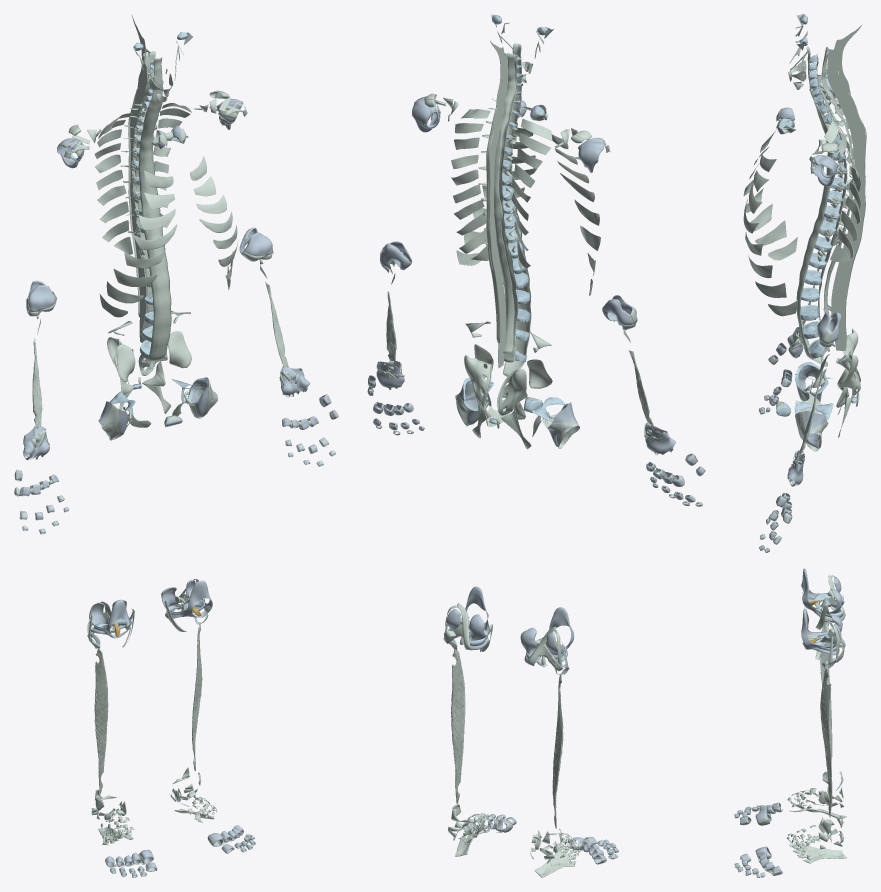
File: joints.glb
3 renders of one model, left to right at view 1: azimuth 30°, elevation 25°; view 2: azimuth 150°, elevation 25°; view 3: azimuth 270°, elevation 25°, orthographic. The views are drawn at different scales.
Visible parts, largest first — view 1: Anterior longitudinal ligament, External intercostal membrane.r, Internal intercostal membrane.r, External intercostal membrane.l, Interosseous membrane of leg.r, Interspinous ligaments, Articular capsule of knee joint.l, Internal intercostal membrane.l, Articular capsule of knee joint.r, Articular capsule of elbow joint.l, Interosseous membrane of leg.l, Articular capsule of elbow joint.r (+2 smaller); view 2: Internal intercostal membrane.l, Ligamenta flava, Interspinous ligaments, Internal intercostal membrane.r, Interosseous membrane of leg.l, Anterior longitudinal ligament, External intercostal membrane.r, Posterior longitudinal ligament, Articular capsule of knee joint.l, Supraspinous ligament, Articular capsule of knee joint.r, Posterior sacro-iliac ligament.r (+4 smaller); view 3: Interspinous ligaments, External intercostal membrane.l, Internal intercostal membrane.l, Anterior longitudinal ligament, External intercostal membrane.r, Interosseous membrane of leg.l, Ligamenta flava, Articular capsule of knee joint.l, Articular capsule of knee joint.r, Posterior longitudinal ligament, Long plantar ligament.l, Articular capsule of elbow joint.l (+14 smaller).
Boxes of the visible parts, x1,y1,x2,y2 form: Anterior longitudinal ligament: (138,57,171,363); External intercostal membrane.r: (99,170,177,317); Internal intercostal membrane.r: (94,113,132,254); External intercostal membrane.l: (190,156,238,289); Interosseous membrane of leg.r: (94,648,108,794); Interspinous ligaments: (130,50,149,342); Articular capsule of knee joint.l: (161,579,212,618); Internal intercostal membrane.l: (153,102,191,235); Articular capsule of knee joint.r: (90,599,131,638); Articular capsule of elbow joint.l: (239,227,272,261); Interosseous membrane of leg.l: (192,622,202,770); Articular capsule of elbow joint.r: (27,280,56,311); Internal intercostal membrane.l: (451,109,490,260); Ligamenta flava: (494,53,515,353); Interspinous ligaments: (488,53,508,368); Internal intercostal membrane.r: (512,119,552,271); Interosseous membrane of leg.l: (451,649,465,804); Anterior longitudinal ligament: (502,43,531,376); External intercostal membrane.r: (551,134,600,295); Posterior longitudinal ligament: (499,53,518,362); Articular capsule of knee joint.l: (446,586,490,649); Supraspinous ligament: (486,108,500,343); Articular capsule of knee joint.r: (520,607,574,662); Posterior sacro-iliac ligament.r: (497,368,527,415); Interspinous ligaments: (826,49,865,350); External intercostal membrane.l: (743,154,797,316); Internal intercostal membrane.l: (824,116,861,262); Anterior longitudinal ligament: (796,46,833,366); External intercostal membrane.r: (743,129,797,260); Interosseous membrane of leg.l: (820,667,832,817); Ligamenta flava: (822,47,854,320); Articular capsule of knee joint.l: (801,608,842,655); Articular capsule of knee joint.r: (801,568,844,622); Posterior longitudinal ligament: (816,53,847,351); Long plantar ligament.l: (789,843,846,864); Articular capsule of elbow joint.l: (817,312,841,343).
Size of the model in its own units: 0.6615 by 1.58 by 0.2308.
